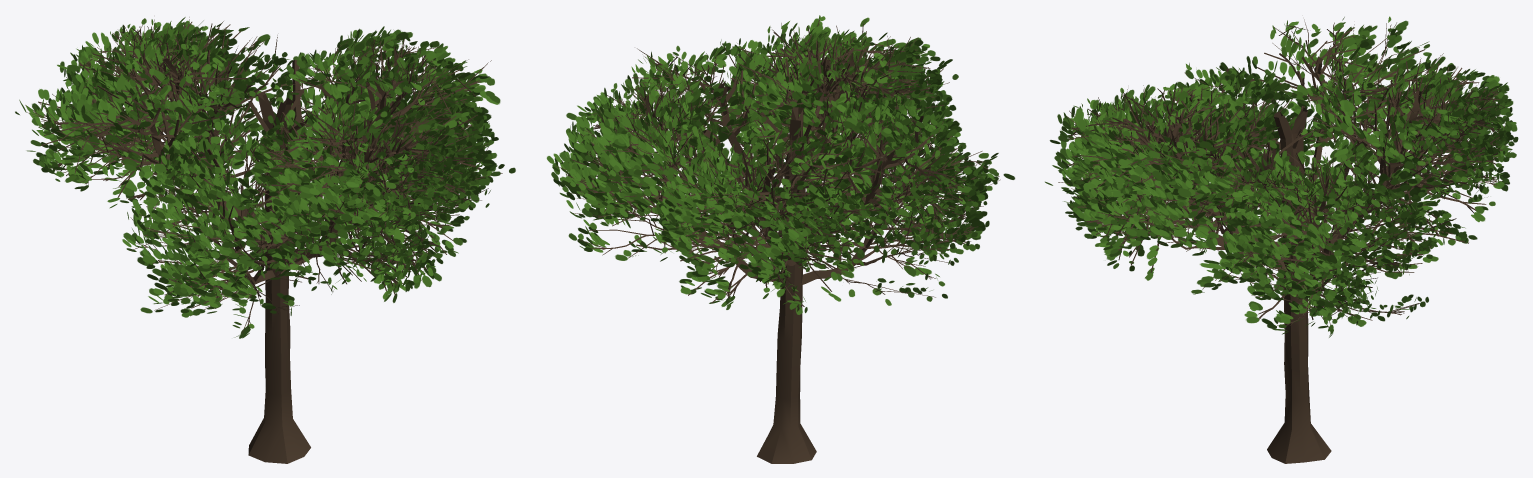
The picture shows the model from 3 angles, left to right: view 1: azimuth 30°, elevation 25°; view 2: azimuth 150°, elevation 25°; view 3: azimuth 270°, elevation 25°; orthographic projection. The views are drawn at different scales.
Parts seen in each view (by area): view 1: oak 01.001_trunk_Mat.001_0.162; view 2: oak 01.001_trunk_Mat.001_0.162; view 3: oak 01.001_trunk_Mat.001_0.162.
Boxes of the visible parts, box(x1,y1,x2,y2) form: oak 01.001_trunk_Mat.001_0.162: box(15, 17, 515, 463); oak 01.001_trunk_Mat.001_0.162: box(546, 15, 1015, 463); oak 01.001_trunk_Mat.001_0.162: box(1045, 16, 1518, 463).
Bounding box in the file's own units: 7.01 × 5.62 × 6.74.
2 materials, 1 textured.
